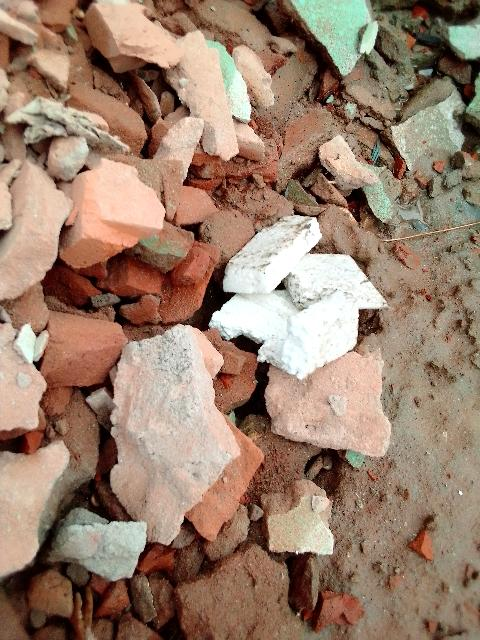cocksheet: (204, 195, 399, 381)
